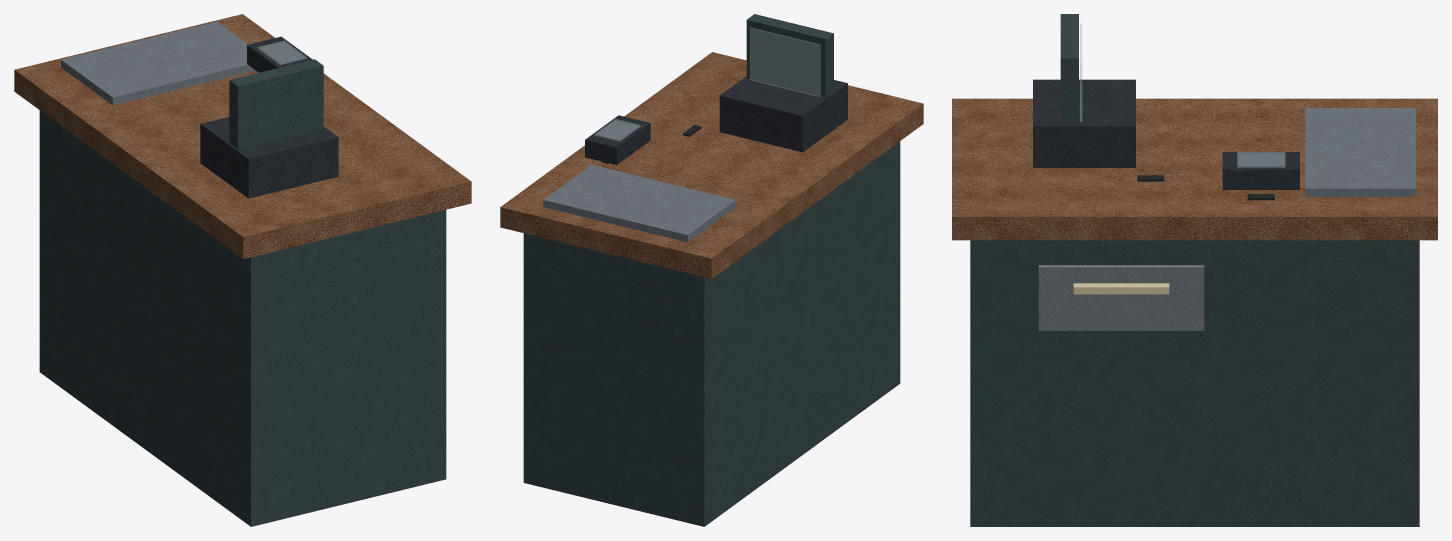
The model's file is Shop_Checkout.glb.
3 renders of one model, left to right at view 1: azimuth 30°, elevation 25°; view 2: azimuth 150°, elevation 25°; view 3: azimuth 270°, elevation 25°, orthographic. The views are drawn at different scales.
Parts seen in each view (by area): view 1: VIS_powdercoat, VIS_timber, VIS_steel, VIS_darksteel, VIS_low_iron_glass; view 2: VIS_powdercoat, VIS_timber, VIS_darksteel, VIS_steel, VIS_low_iron_glass; view 3: VIS_powdercoat, VIS_timber, VIS_steel, VIS_darksteel, VIS_handle_brass, VIS_low_iron_glass.
Part boxes in pixels (x1,y1,x2,y2): VIS_powdercoat: [39, 59, 446, 526]; VIS_timber: [14, 14, 471, 258]; VIS_steel: [61, 21, 255, 105]; VIS_darksteel: [200, 36, 338, 198]; VIS_low_iron_glass: [258, 41, 306, 64]; VIS_powdercoat: [523, 14, 900, 526]; VIS_timber: [500, 52, 923, 278]; VIS_darksteel: [585, 76, 847, 164]; VIS_steel: [543, 164, 735, 242]; VIS_low_iron_glass: [595, 28, 820, 141]; VIS_powdercoat: [970, 14, 1419, 526]; VIS_timber: [952, 98, 1437, 240]; VIS_steel: [1038, 108, 1415, 330]; VIS_darksteel: [1033, 79, 1299, 189]; VIS_handle_brass: [1073, 283, 1169, 294]; VIS_low_iron_glass: [1080, 24, 1284, 167].
Size of the model in its own units: 0.76 by 1.28 by 1.32.
Materials: 7 (5 with a texture image).
